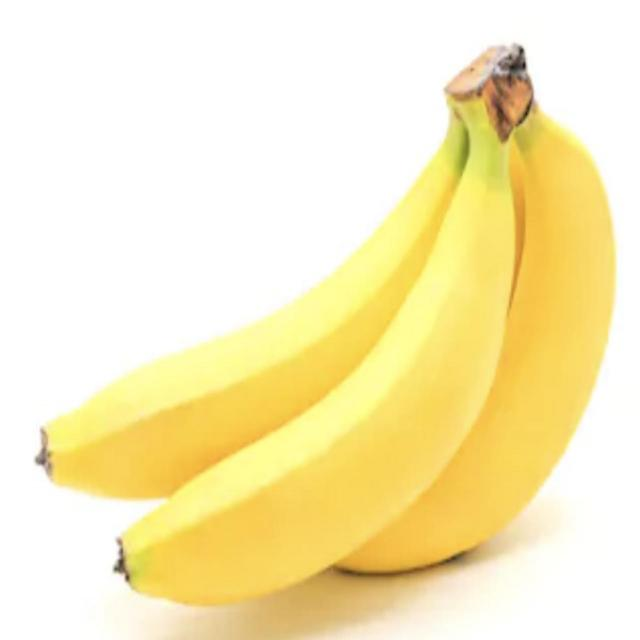banana: (88, 82, 526, 615)
